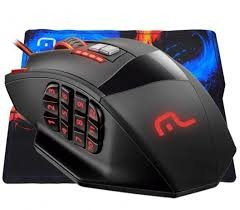mouse: (0, 37, 238, 198)
